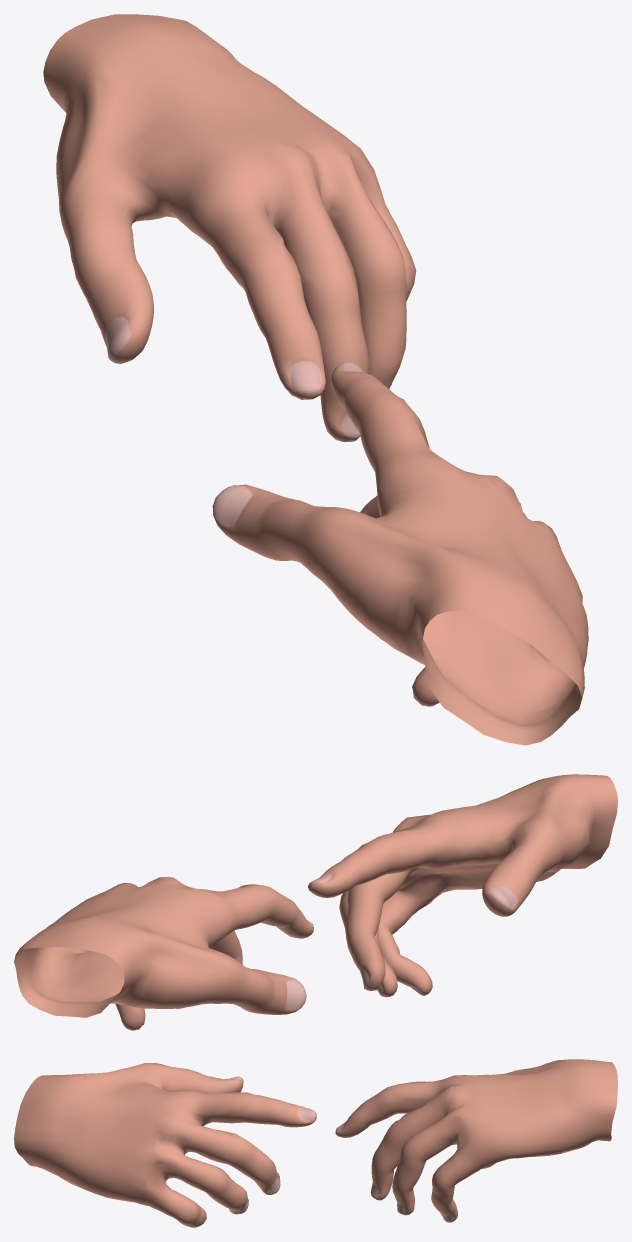
File: hands2.glb
3 renders of one model, top to bottom at view 1: azimuth 30°, elevation 25°; view 2: azimuth 150°, elevation 25°; view 3: azimuth 270°, elevation 25°, orthographic. The views are drawn at different scales.
Parts seen in each view (by area): view 1: export_0, Other hand_1; view 2: export_0, Other hand_1; view 3: Other hand_1, export_0.
Boxes of the visible parts, bbox=[...] form: export_0: bbox=[43, 14, 416, 442]; Other hand_1: bbox=[212, 361, 588, 745]; export_0: bbox=[14, 876, 313, 1030]; Other hand_1: bbox=[308, 774, 617, 997]; Other hand_1: bbox=[14, 1063, 316, 1227]; export_0: bbox=[335, 1059, 617, 1222].
Bounding box in the file's own units: 2.23 × 1.91 × 5.72.
